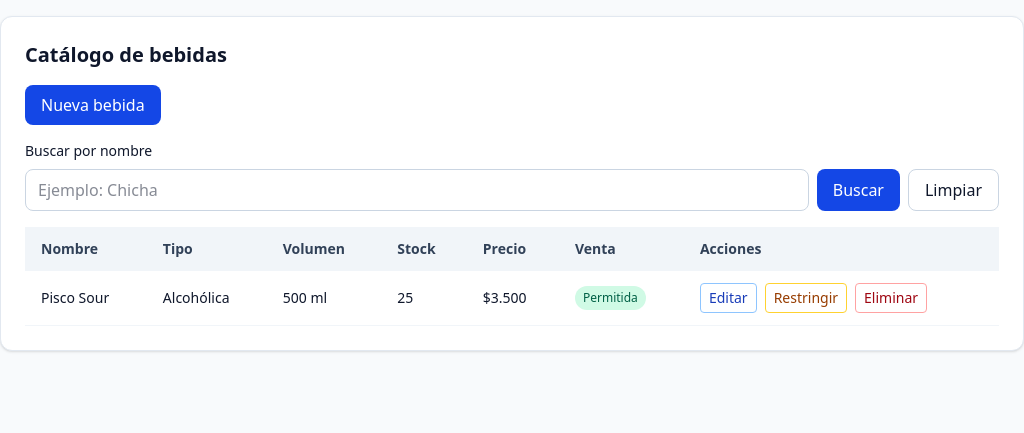
Test: Acciones del catálogo › muestra el fallo de una acción y permite reintentar
expect the text "Pisco Sour" is shown: met, box [25,271,147,326]
Click the button "Restringir".
click(806, 298)  # box [765,283,847,313]
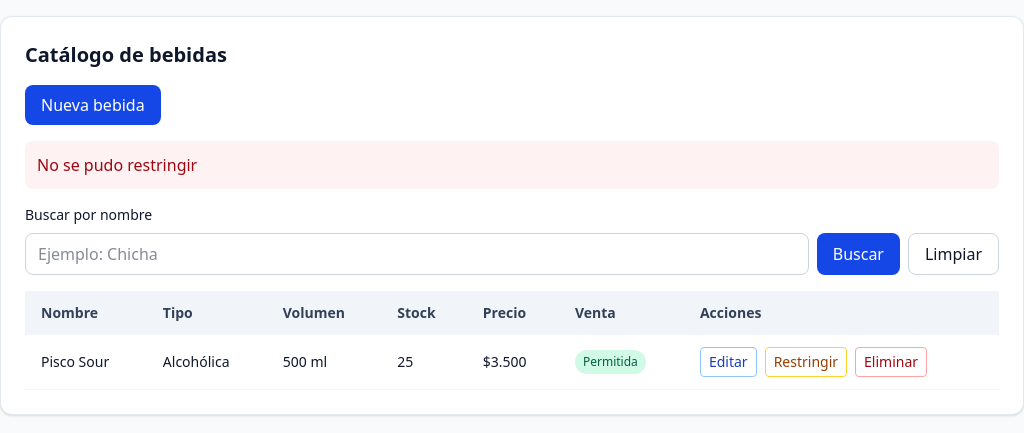
expect the message reads "No se pudo restringir": met, box [37,154,197,176]
Click the button "Restringir".
click(806, 362)  # box [765,347,847,377]
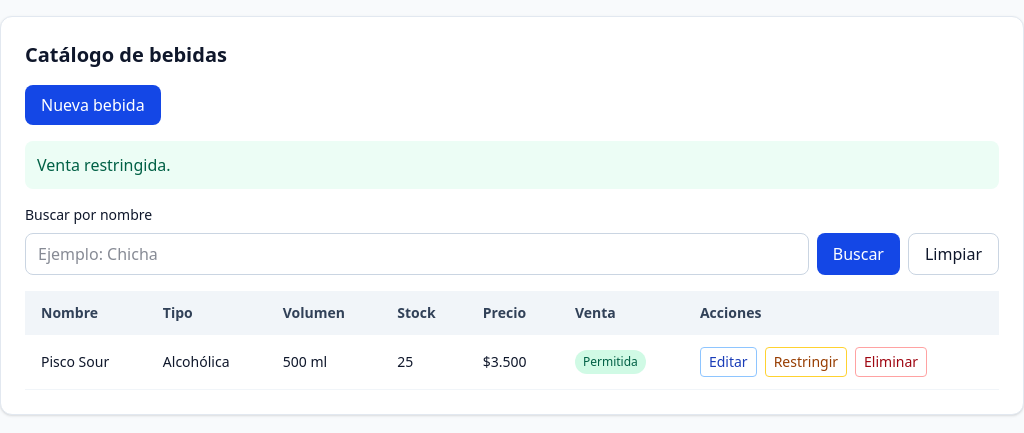
expect the text "Venta restringida." is shown: met, box [25,141,999,189]
